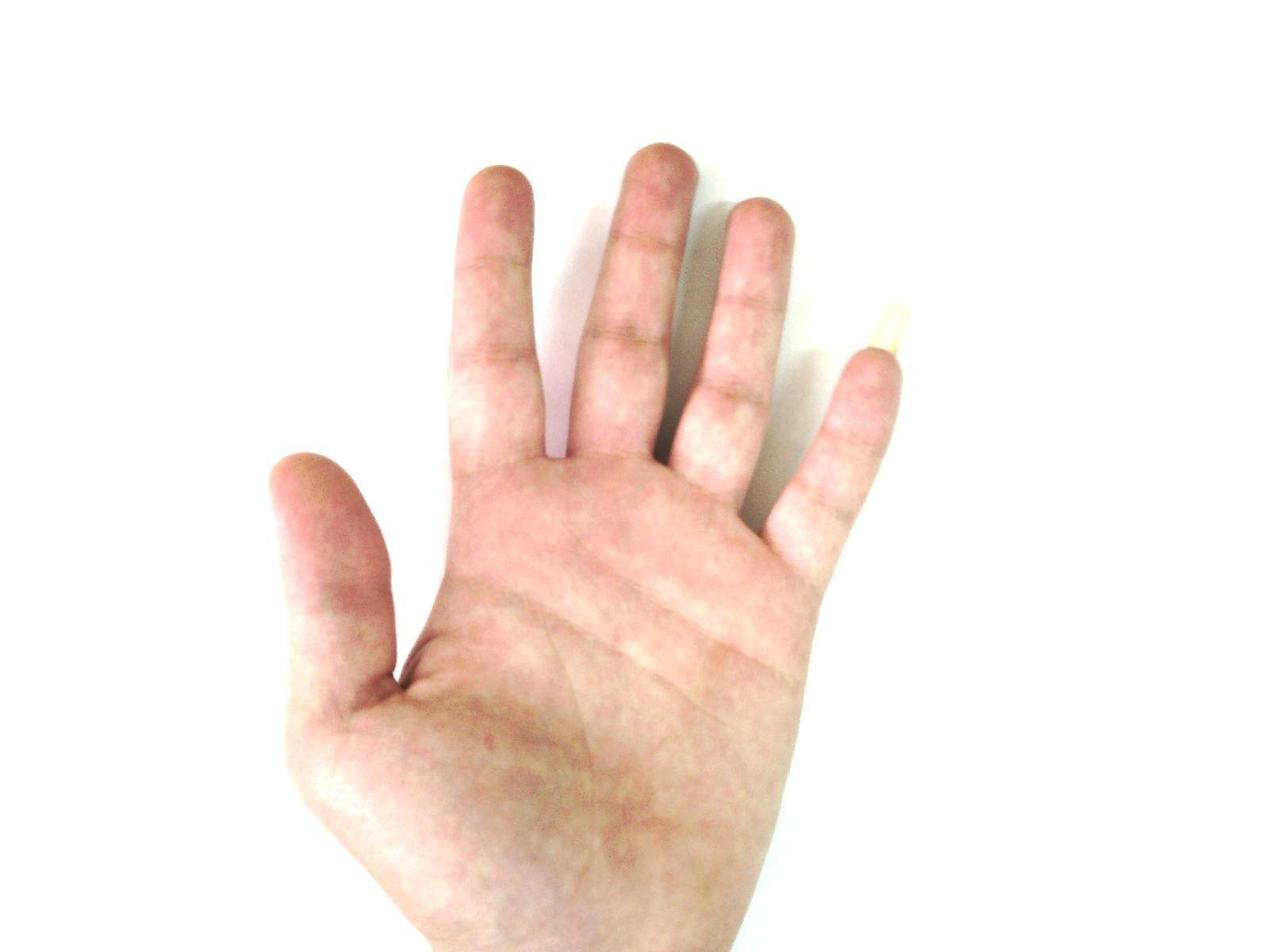open_palm: (266, 141, 907, 951)
